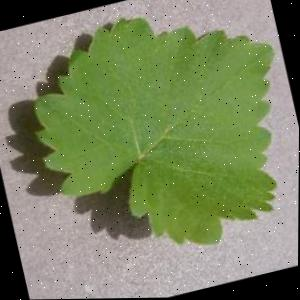Folha: (11, 0, 300, 281)
